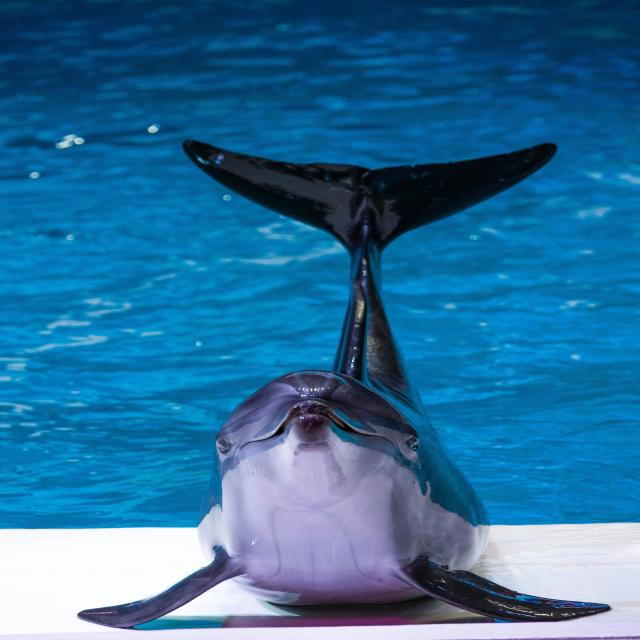penguin: (79, 141, 609, 628)
